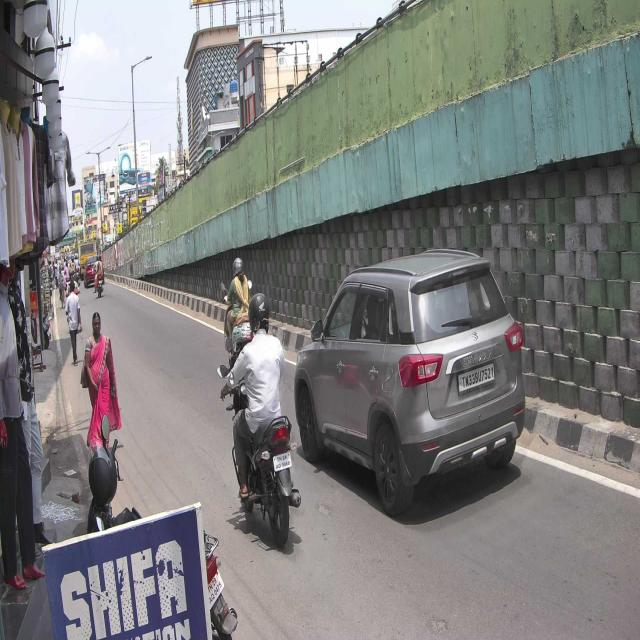single_rider: (217, 290, 302, 556)
